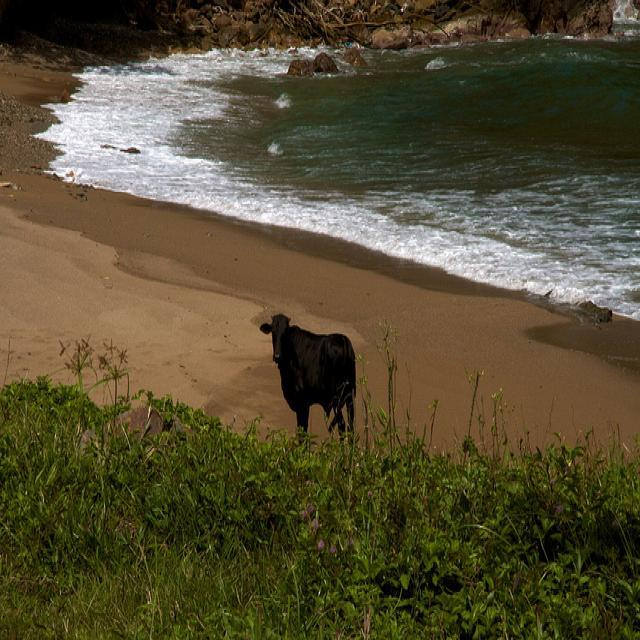cow: (258, 309, 357, 439)
